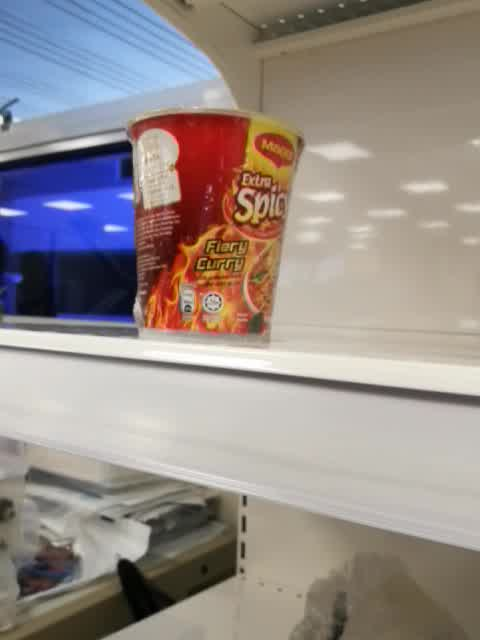maggi: (125, 105, 307, 344)
